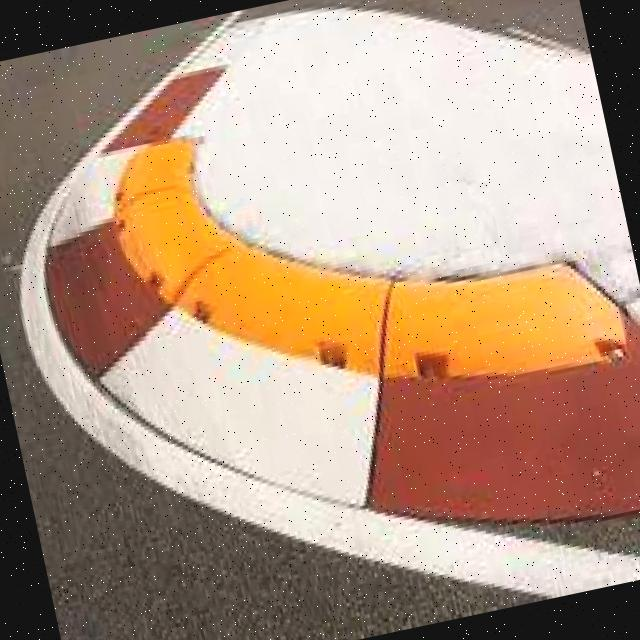curb: (34, 155, 343, 499), (273, 330, 640, 577), (49, 73, 223, 218)
